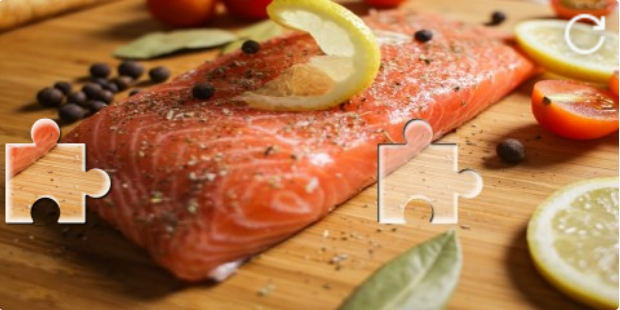target: (378, 119, 482, 225)
